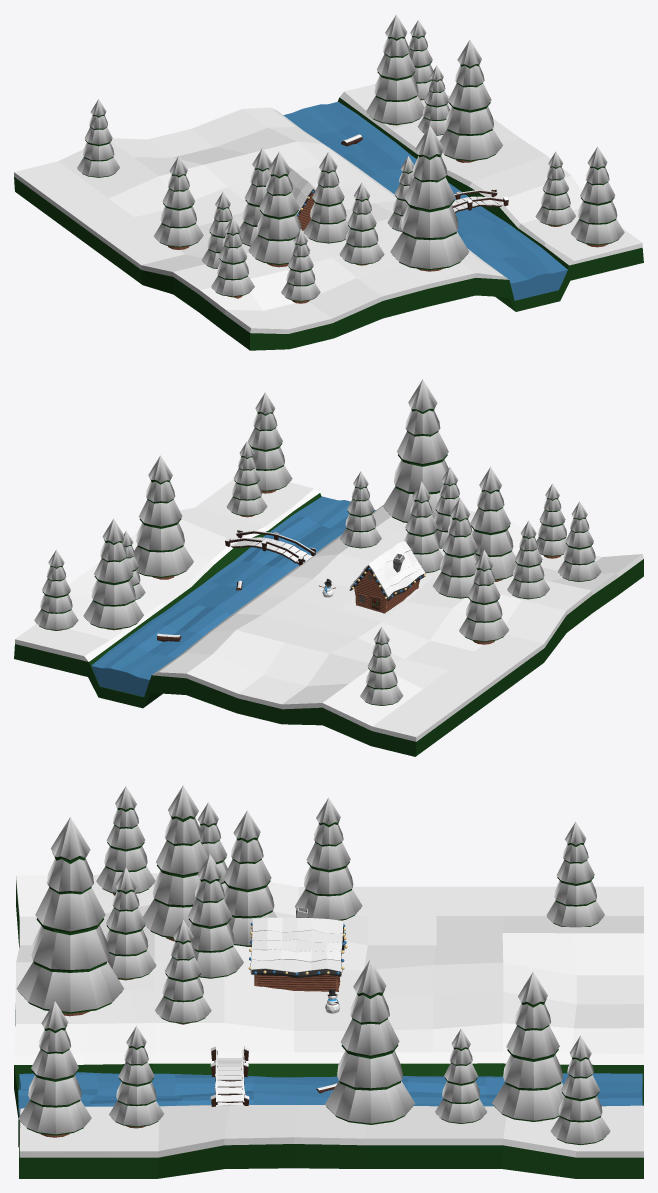
Rendered from SnowScene.fbx.
3 views of the same model, one above another, from view 1: azimuth 30°, elevation 25°; view 2: azimuth 150°, elevation 25°; view 3: azimuth 270°, elevation 25° (orthographic). The views are drawn at different scales.
Parts seen in each view (by area): view 1: Log.001; view 2: Log.001; view 3: Log.001.
Boxes of the visible parts, x1,y1,x2,y2 form: Log.001: (14, 14, 643, 350); Log.001: (14, 379, 643, 756); Log.001: (14, 785, 643, 1178).
Bounding box in the file's own units: 8812 × 3941 × 8757.
